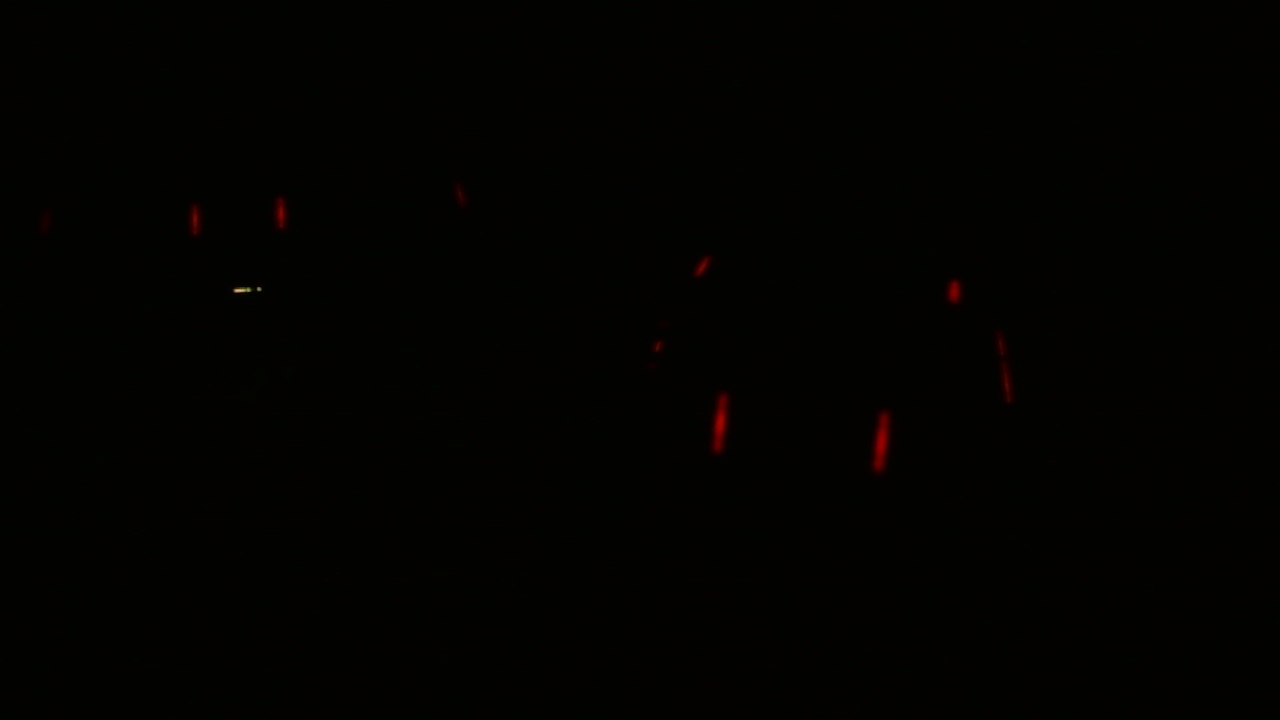pair1: (179, 186, 299, 248)
pair2: (699, 389, 901, 480)
